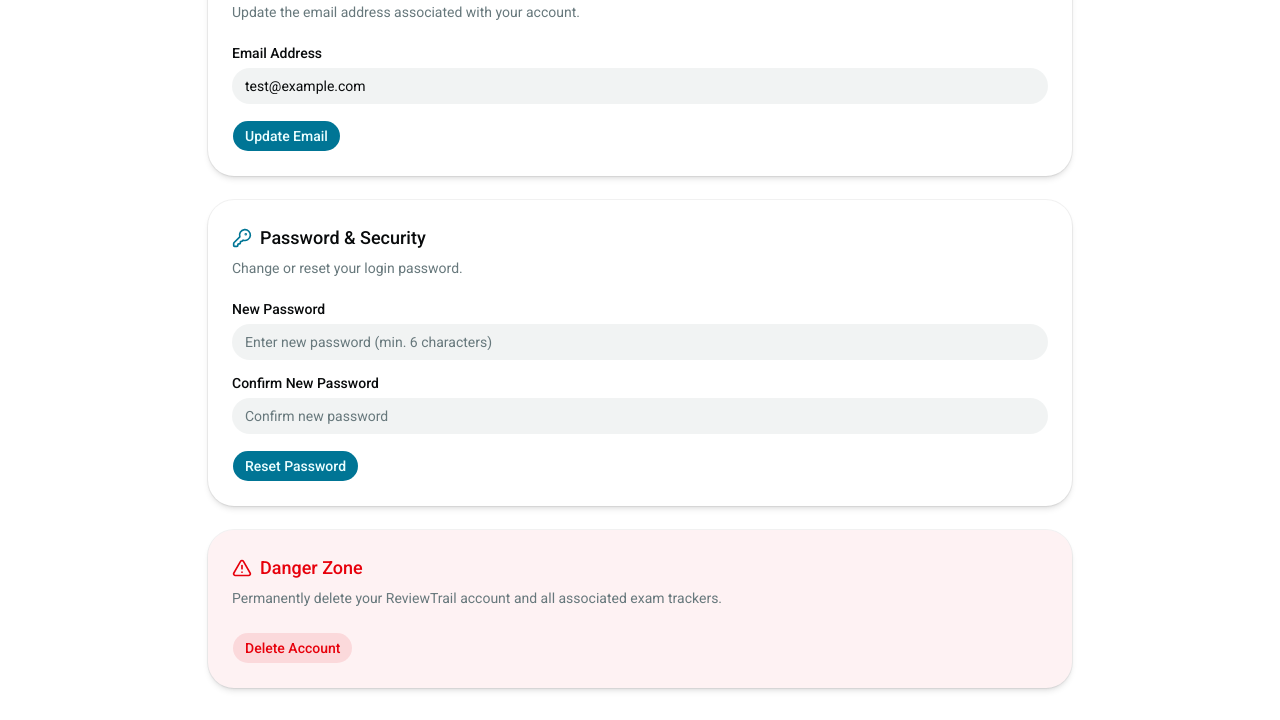
Scenario: SettingsPage Component › Account Deletion › disables delete confirmation button until DELETE is typed
(page scrolled)
Click the button "Delete Account" at (293, 648), box [232,632,353,664]
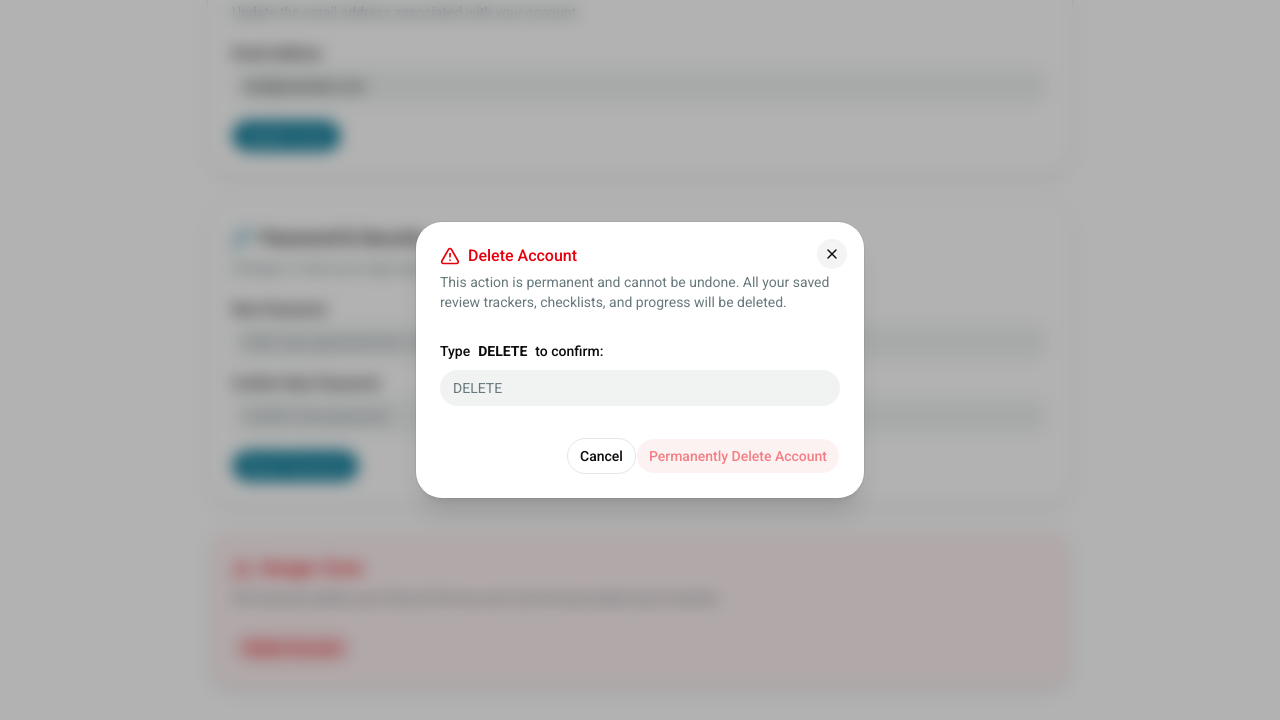
Check: the button "Permanently Delete Account" is disabled, box [636,438,840,474]
Type "del" into the field with placeholder "DELETE" at (640, 388), box [440,370,840,406]
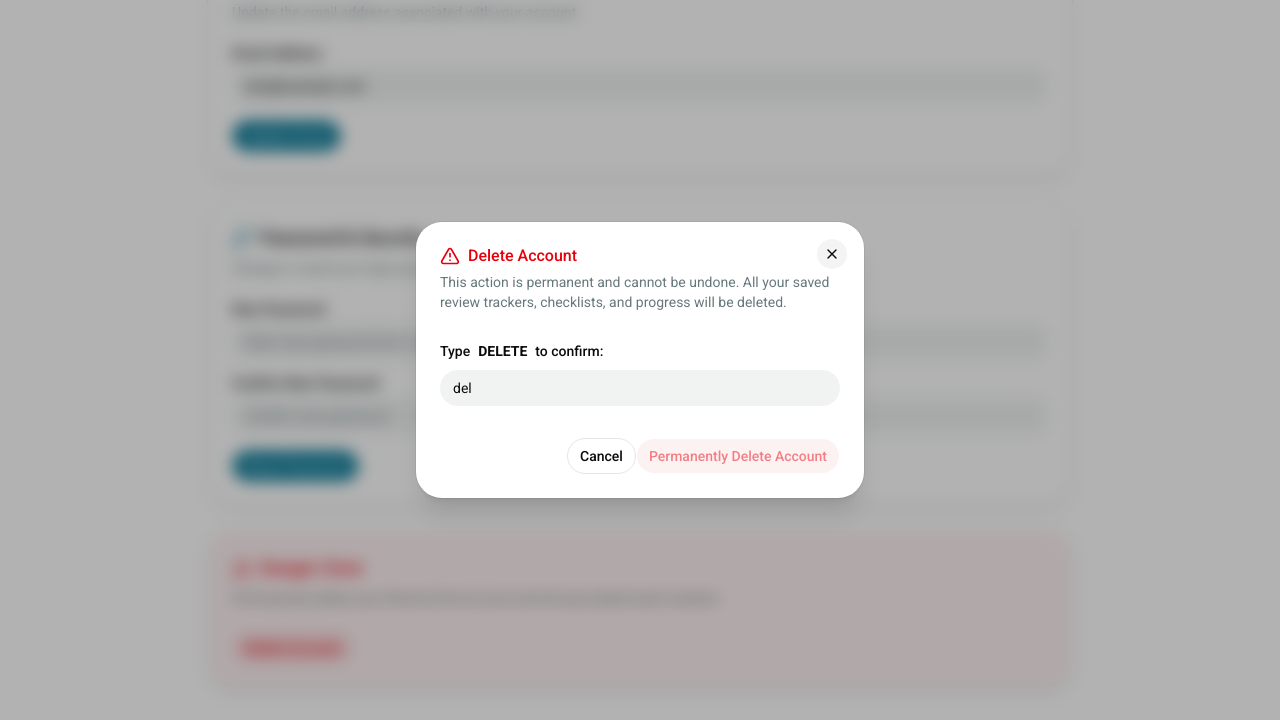
Check: the button "Permanently Delete Account" is disabled, box [636,438,840,474]
Replace the text in the field with placeholder "DELETE" with "DELETE" at (640, 388), box [440,370,840,406]
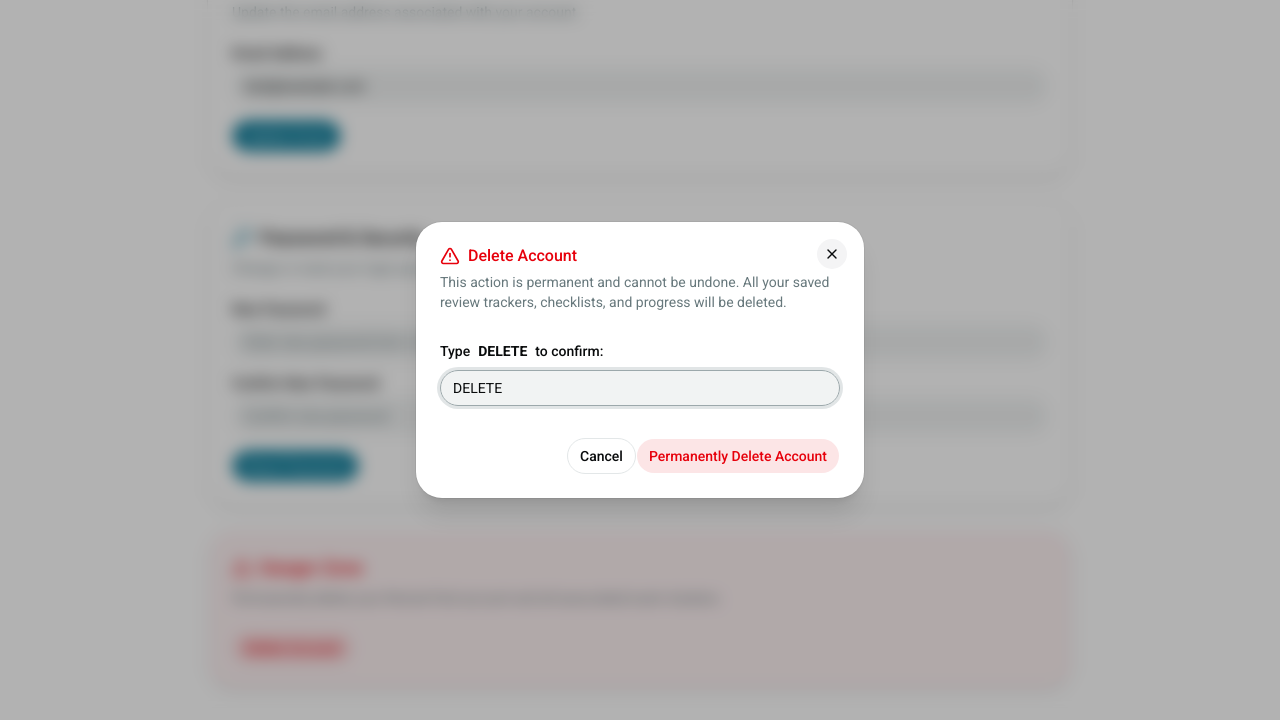
Check: the button "Permanently Delete Account" is enabled, box [636,438,840,474]
